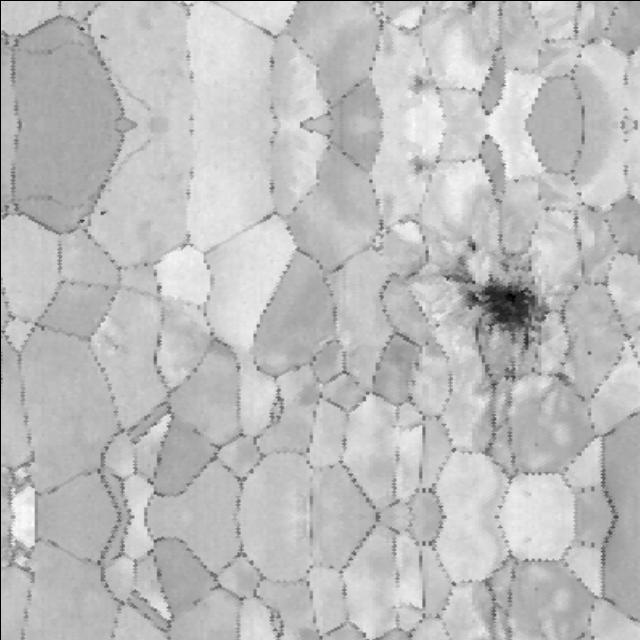good_void: (464, 266, 553, 357), (440, 254, 476, 288), (407, 150, 438, 178), (407, 71, 438, 99), (493, 354, 522, 382), (551, 367, 574, 386), (465, 237, 480, 255), (465, 0, 480, 12), (74, 217, 85, 226), (74, 24, 85, 33), (98, 208, 107, 217), (98, 32, 107, 41), (585, 349, 592, 356)
